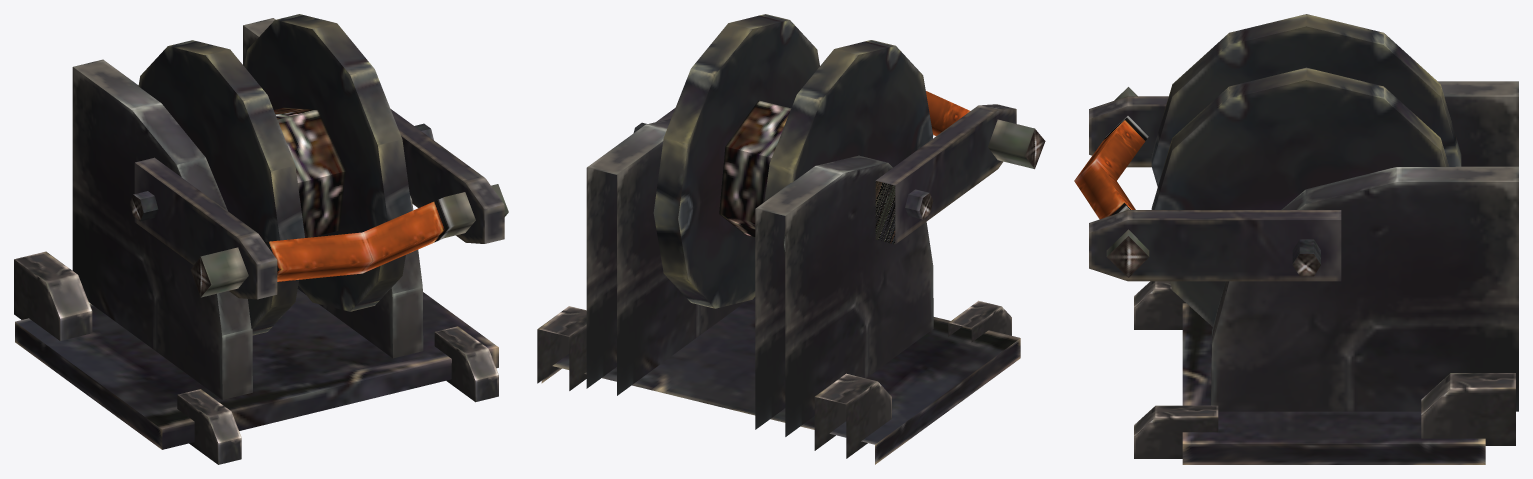
Rendered from d_1310_jiguan.FBX.
The picture shows the model from 3 angles, left to right: view 1: azimuth 30°, elevation 25°; view 2: azimuth 150°, elevation 25°; view 3: azimuth 270°, elevation 25°; orthographic projection. The views are drawn at different scales.
Parts seen in each view (by area): view 1: d_1114_Thing1745, box_yuan, box_open; view 2: d_1114_Thing1745, box_yuan, box_open; view 3: d_1114_Thing1745, box_yuan, box_open.
Boxes of the visible parts, x1,y1,x2,y2 form: d_1114_Thing1745: (14, 18, 498, 464); box_yuan: (138, 14, 411, 335); box_open: (134, 109, 508, 299); d_1114_Thing1745: (537, 118, 1020, 464); box_yuan: (653, 14, 933, 308); box_open: (656, 91, 1045, 244); d_1114_Thing1745: (1134, 81, 1518, 464); box_yuan: (1151, 14, 1461, 326); box_open: (1074, 87, 1341, 281).
Bounding box in the file's own units: 319 × 300 × 355.
